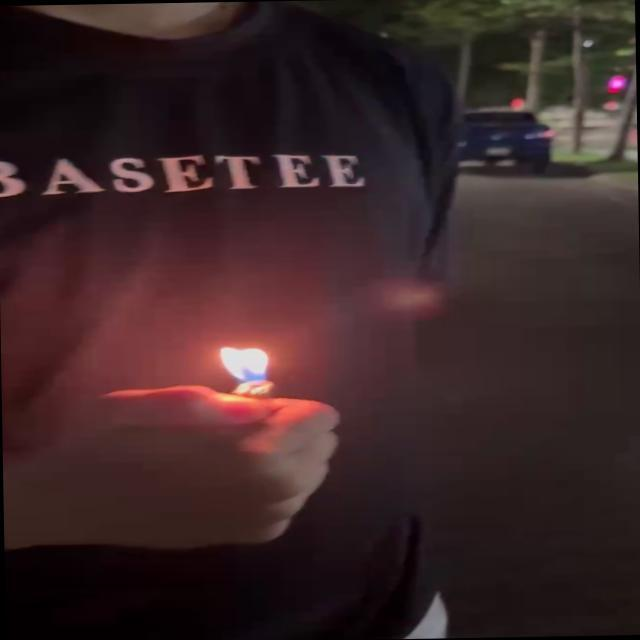Fire: (217, 345, 278, 392)
